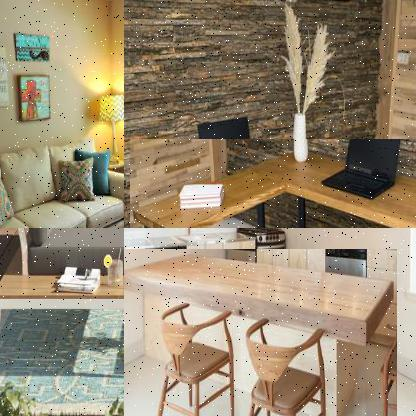table: (124, 249, 398, 415), (130, 139, 415, 227)
